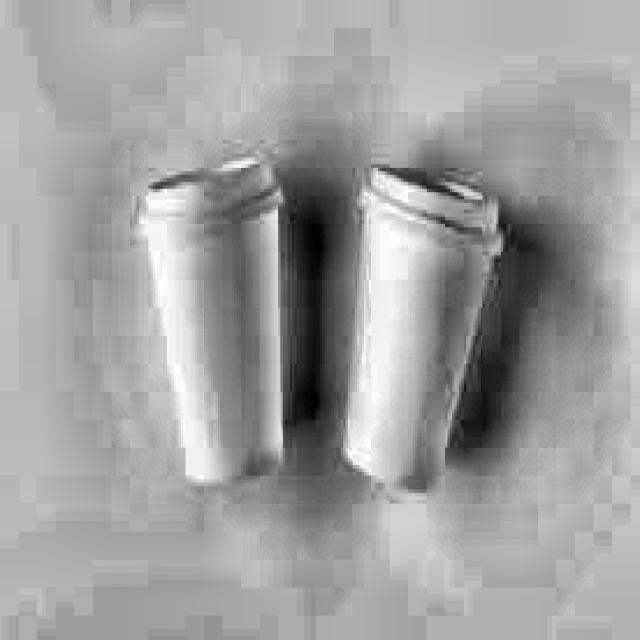Cup: (338, 176, 504, 517), (131, 185, 306, 499)
